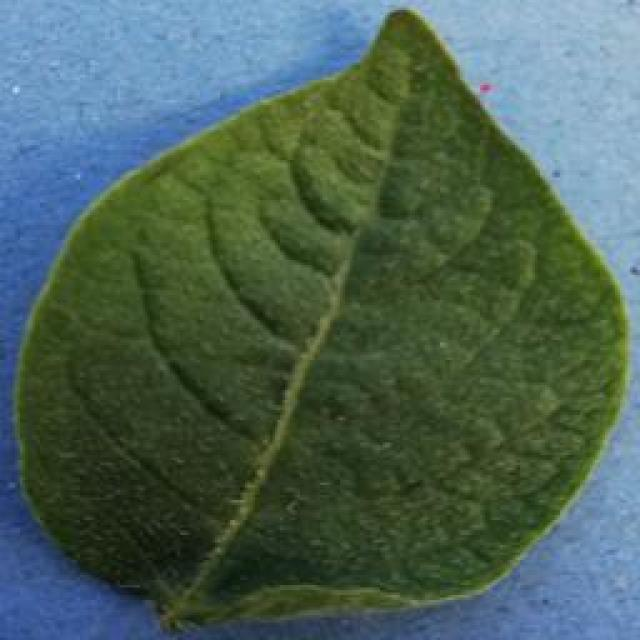Potato_Healthy: (15, 5, 621, 626)
